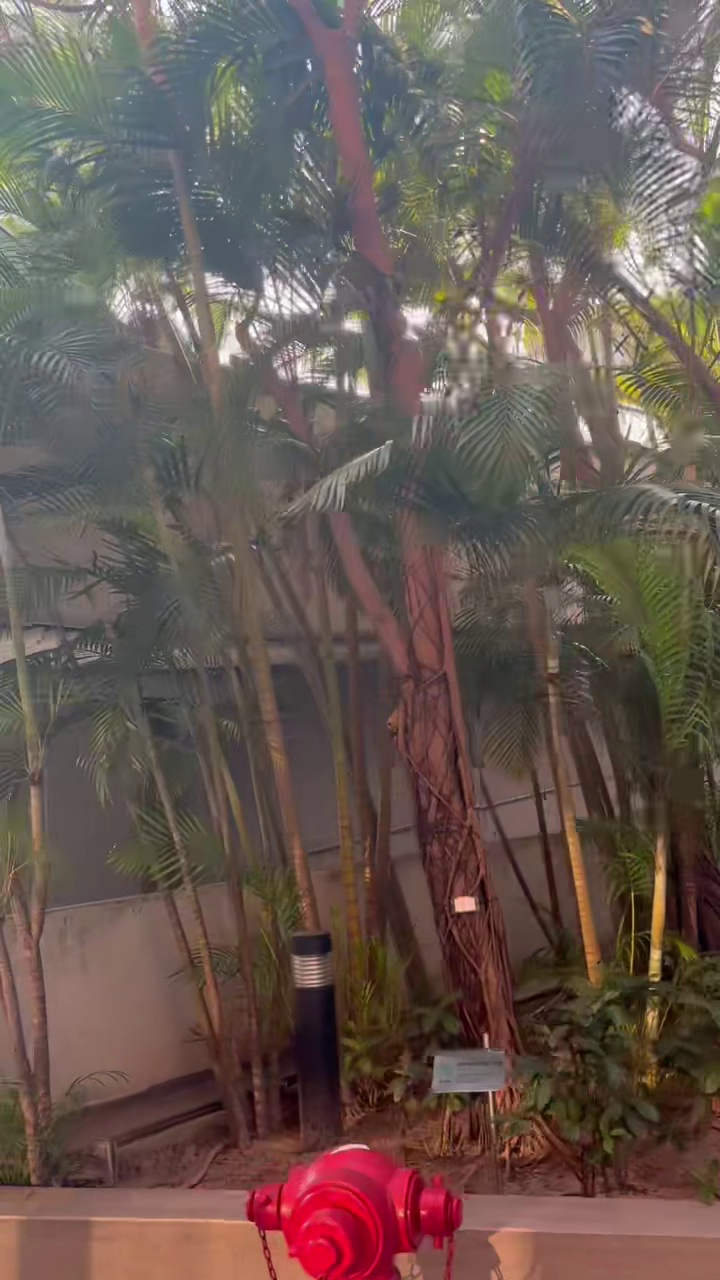Ficus benjamina: (288, 0, 518, 1052)
